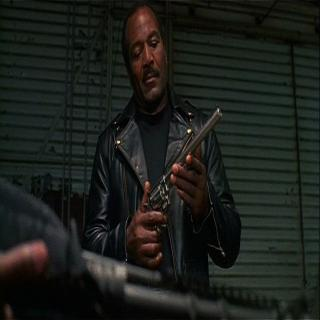gun: (129, 96, 228, 274)
